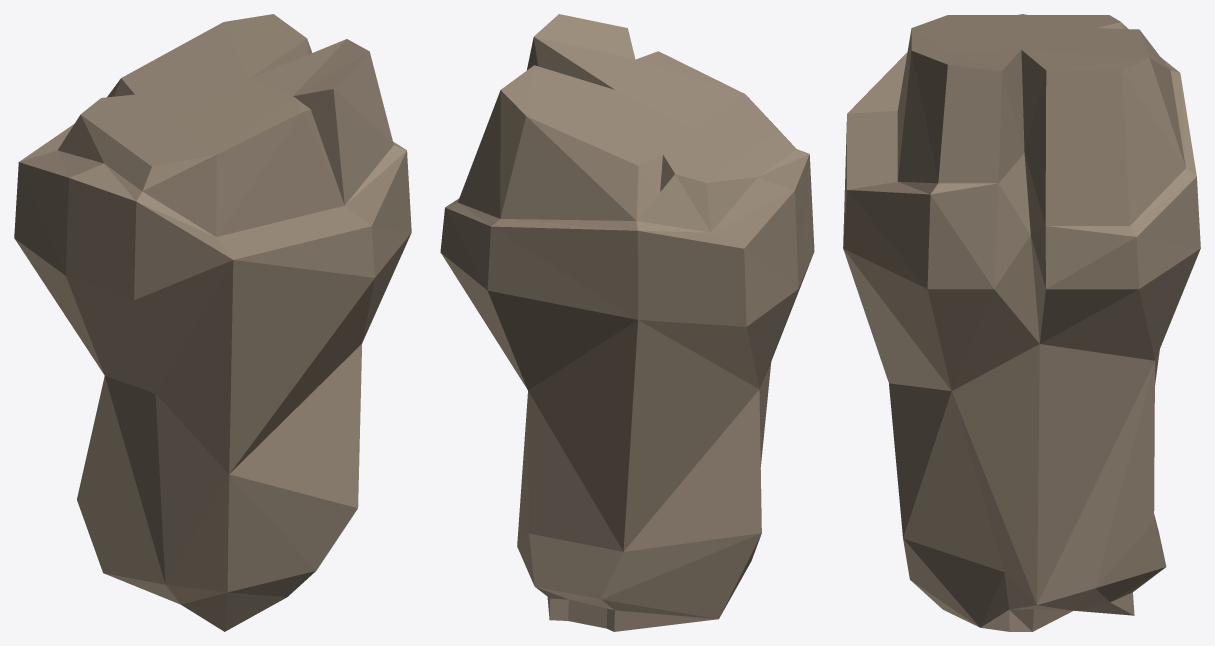
File: SM_Env_Rock_02.fbx
3 renders of one model, left to right at view 1: azimuth 30°, elevation 25°; view 2: azimuth 150°, elevation 25°; view 3: azimuth 270°, elevation 25°, orthographic. The views are drawn at different scales.
Parts seen in each view (by area): view 1: SM_Env_Rock_02; view 2: SM_Env_Rock_02; view 3: SM_Env_Rock_02.
Boxes of the visible parts, x1,y1,x2,y2 form: SM_Env_Rock_02: (14,14,411,631); SM_Env_Rock_02: (440,14,814,631); SM_Env_Rock_02: (843,14,1200,631).
Size of the model in its own units: 0.0121 by 0.0206 by 0.0109.
1 material, 1 textured.
